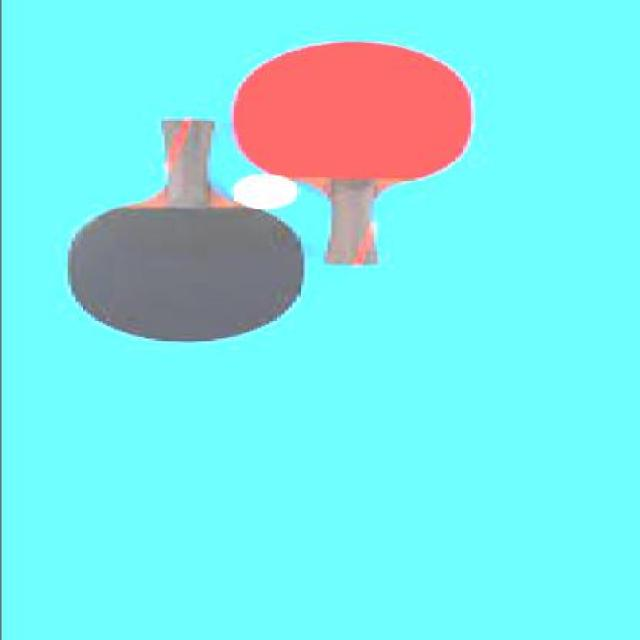table_tennis_racket: (227, 34, 479, 191), (65, 186, 307, 346)
